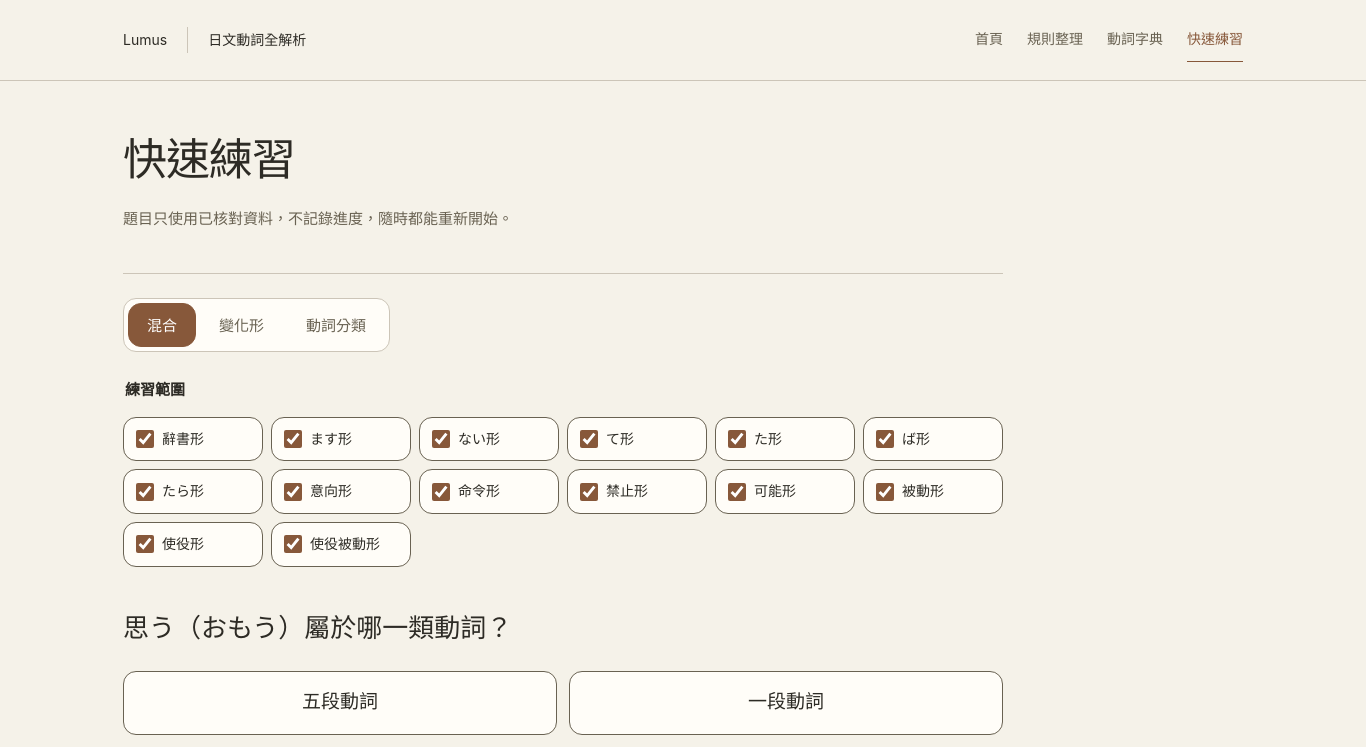
router › shows immediate feedback after answering a practice question
Expected: the heading "快速練習" is shown, top-left (123, 136), bottom-right (295, 185)
Click the button "五段動詞": (340, 703) top-left (123, 671), bottom-right (557, 735)
(page scrolled)
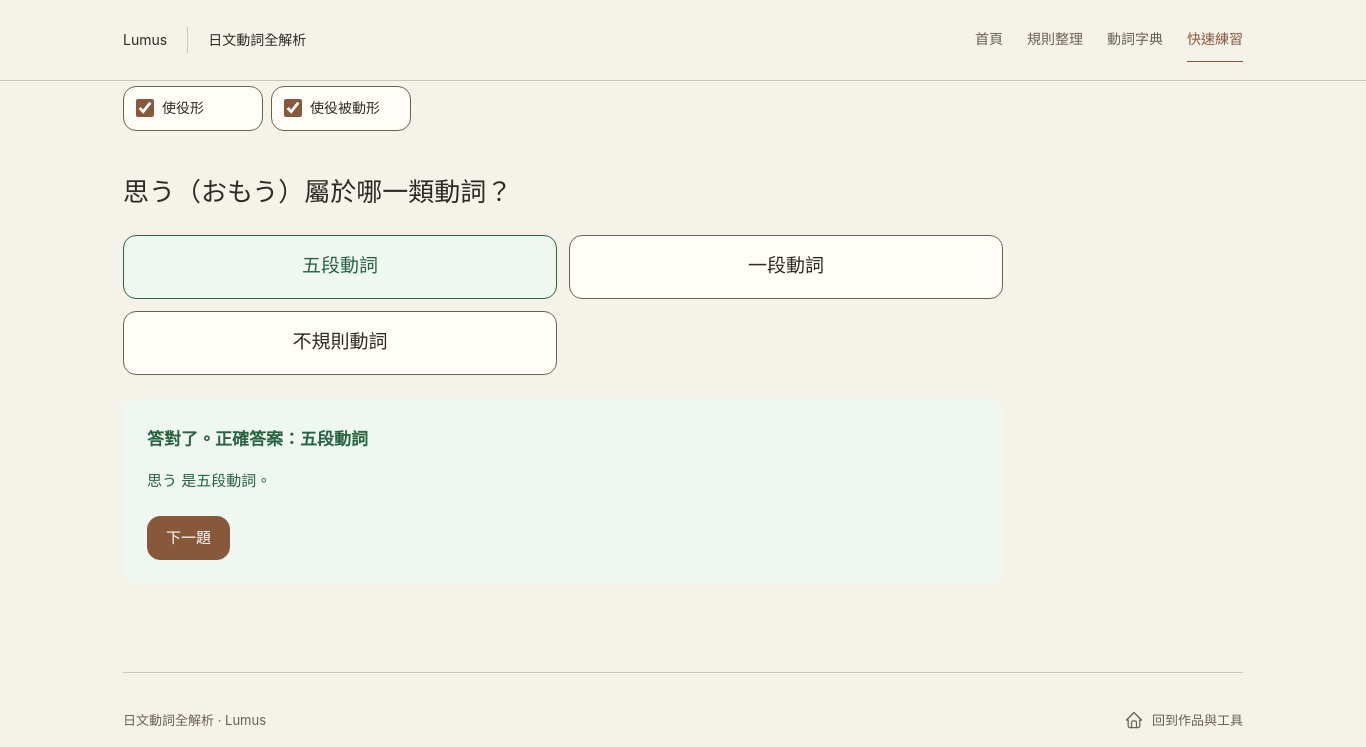
Expected: the text "答對了。正確答案：五段動詞" is shown, top-left (147, 429), bottom-right (368, 449)
Expected: the button "下一題" is shown, top-left (147, 516), bottom-right (230, 560)
